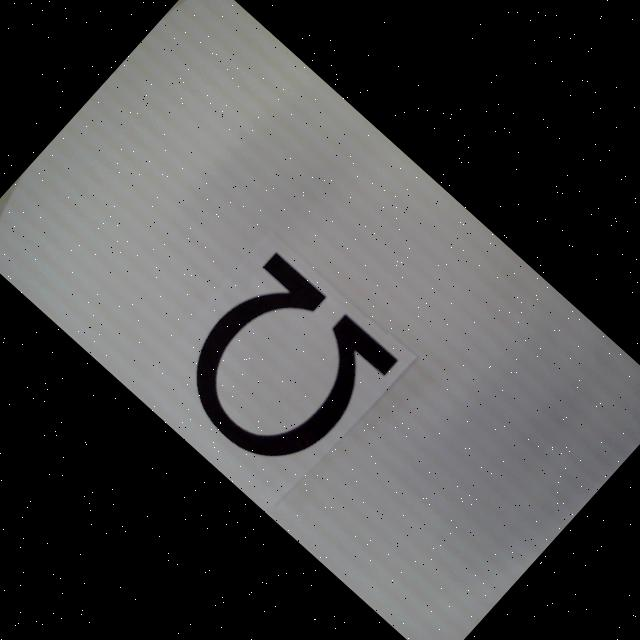OMEGA: (161, 251, 398, 488)
